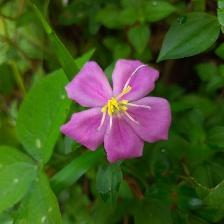malabar melastome: (61, 59, 174, 164)
